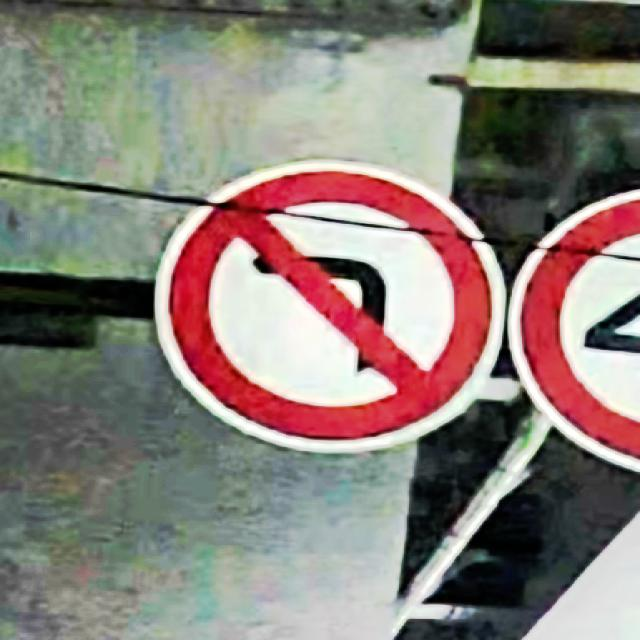noturnleft: (168, 171, 494, 440)
